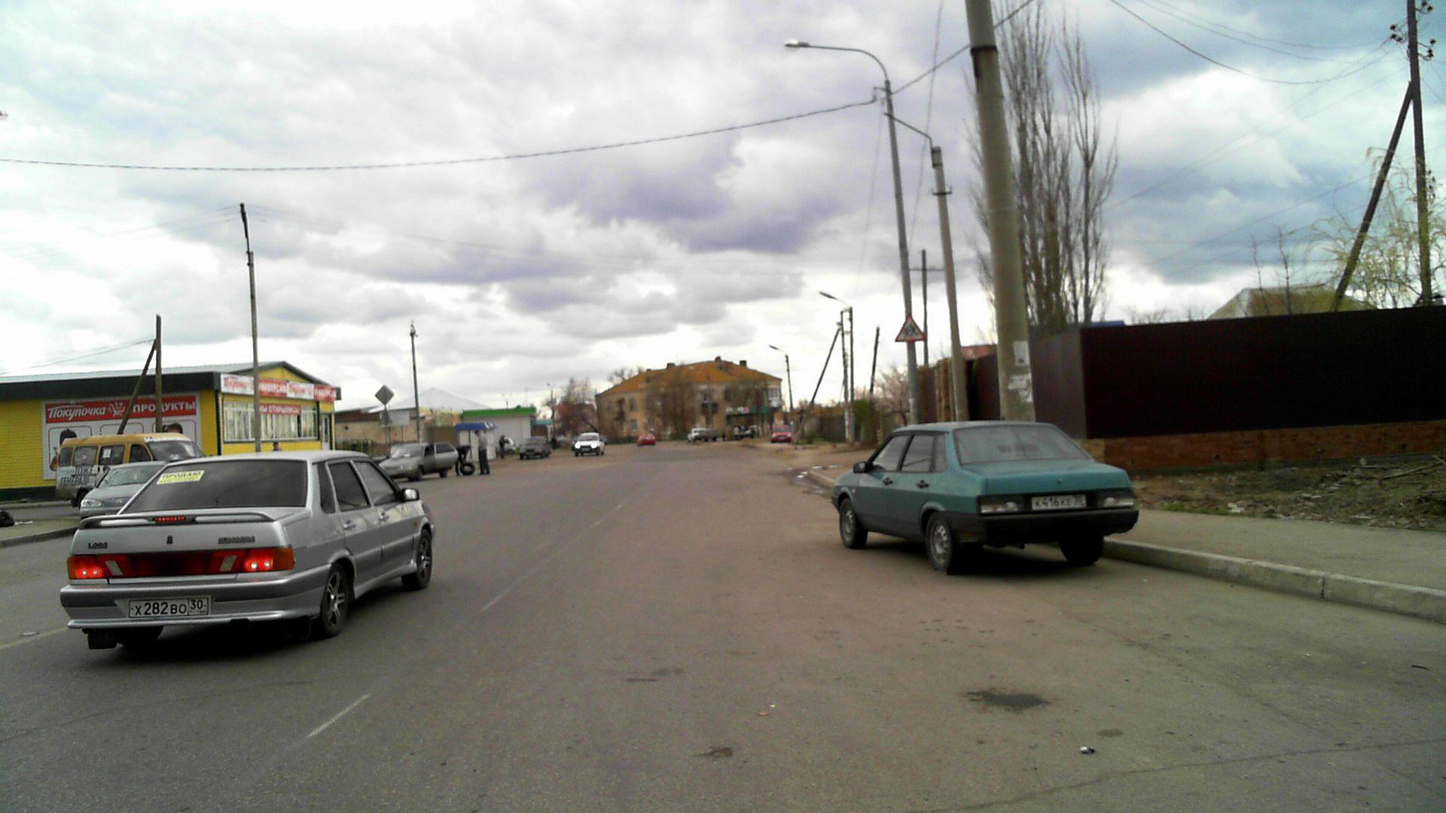road_sign: (895, 313, 925, 342)
